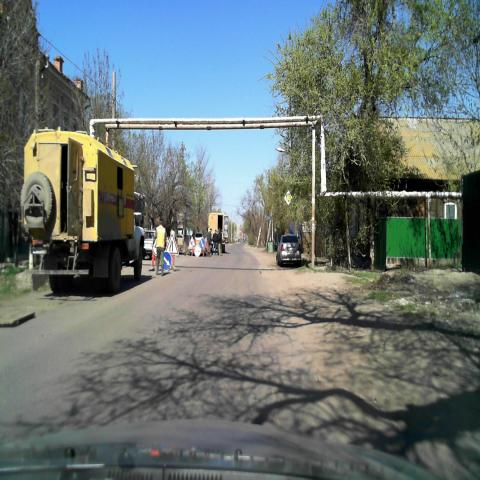1_20_3: (165, 234, 179, 253)
